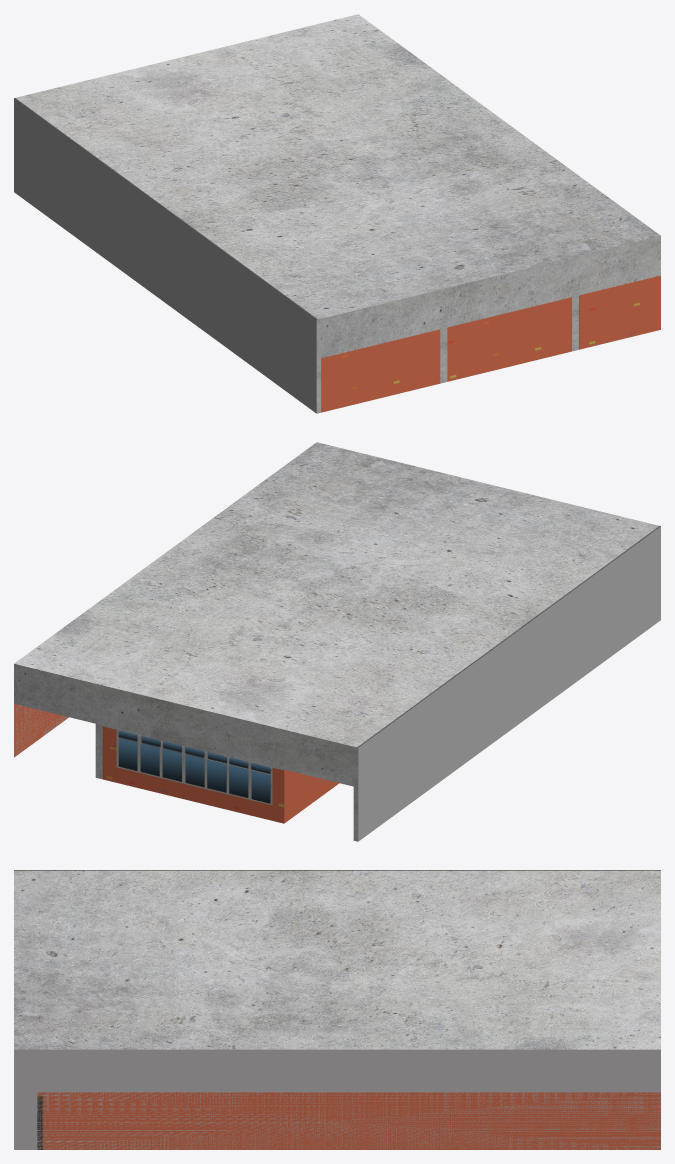
The model's file is edif-14.1.fbx.
3 views of the same model, one above another, from view 1: azimuth 30°, elevation 25°; view 2: azimuth 150°, elevation 25°; view 3: azimuth 270°, elevation 25° (orthographic). The views are drawn at different scales.
Parts seen in each view (by area): view 1: polySurface150; view 2: polySurface150; view 3: polySurface150.
Part boxes in pixels (x1,y1,x2,y2): polySurface150: (14,14,660,413); polySurface150: (14,442,660,841); polySurface150: (14,870,660,1149).
Bounding box in the file's own units: 191 × 49.86 × 291.
1 material, 1 textured.
